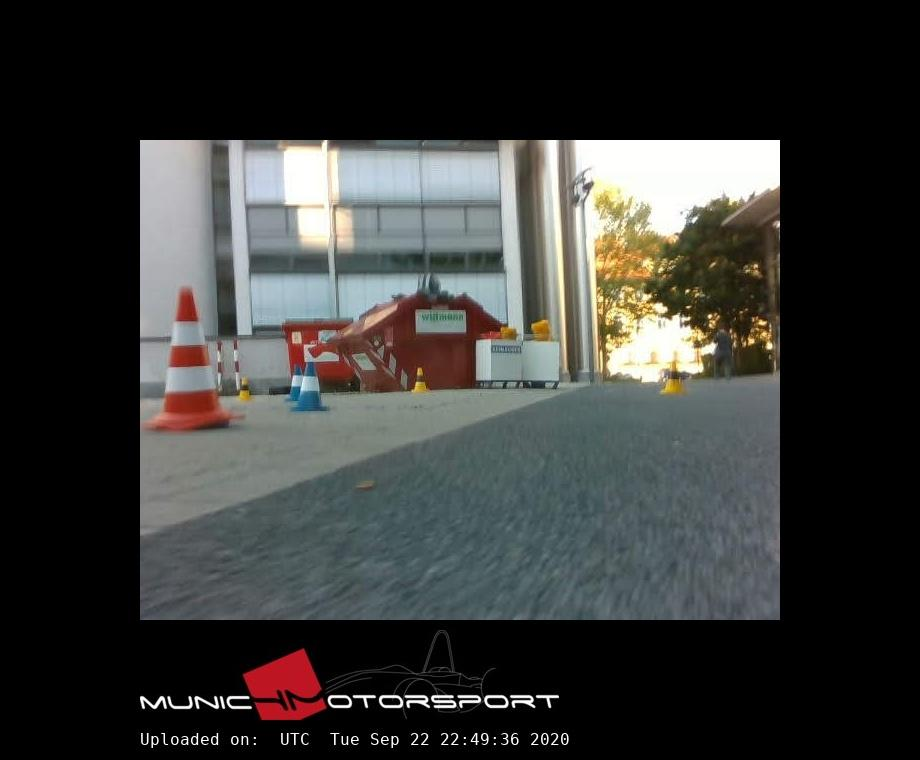blue_cone: (291, 363, 328, 411), (285, 363, 303, 401)
large_orange_cone: (148, 287, 246, 428)
yellow_cone: (661, 364, 681, 394), (412, 368, 429, 393), (239, 377, 249, 398)
